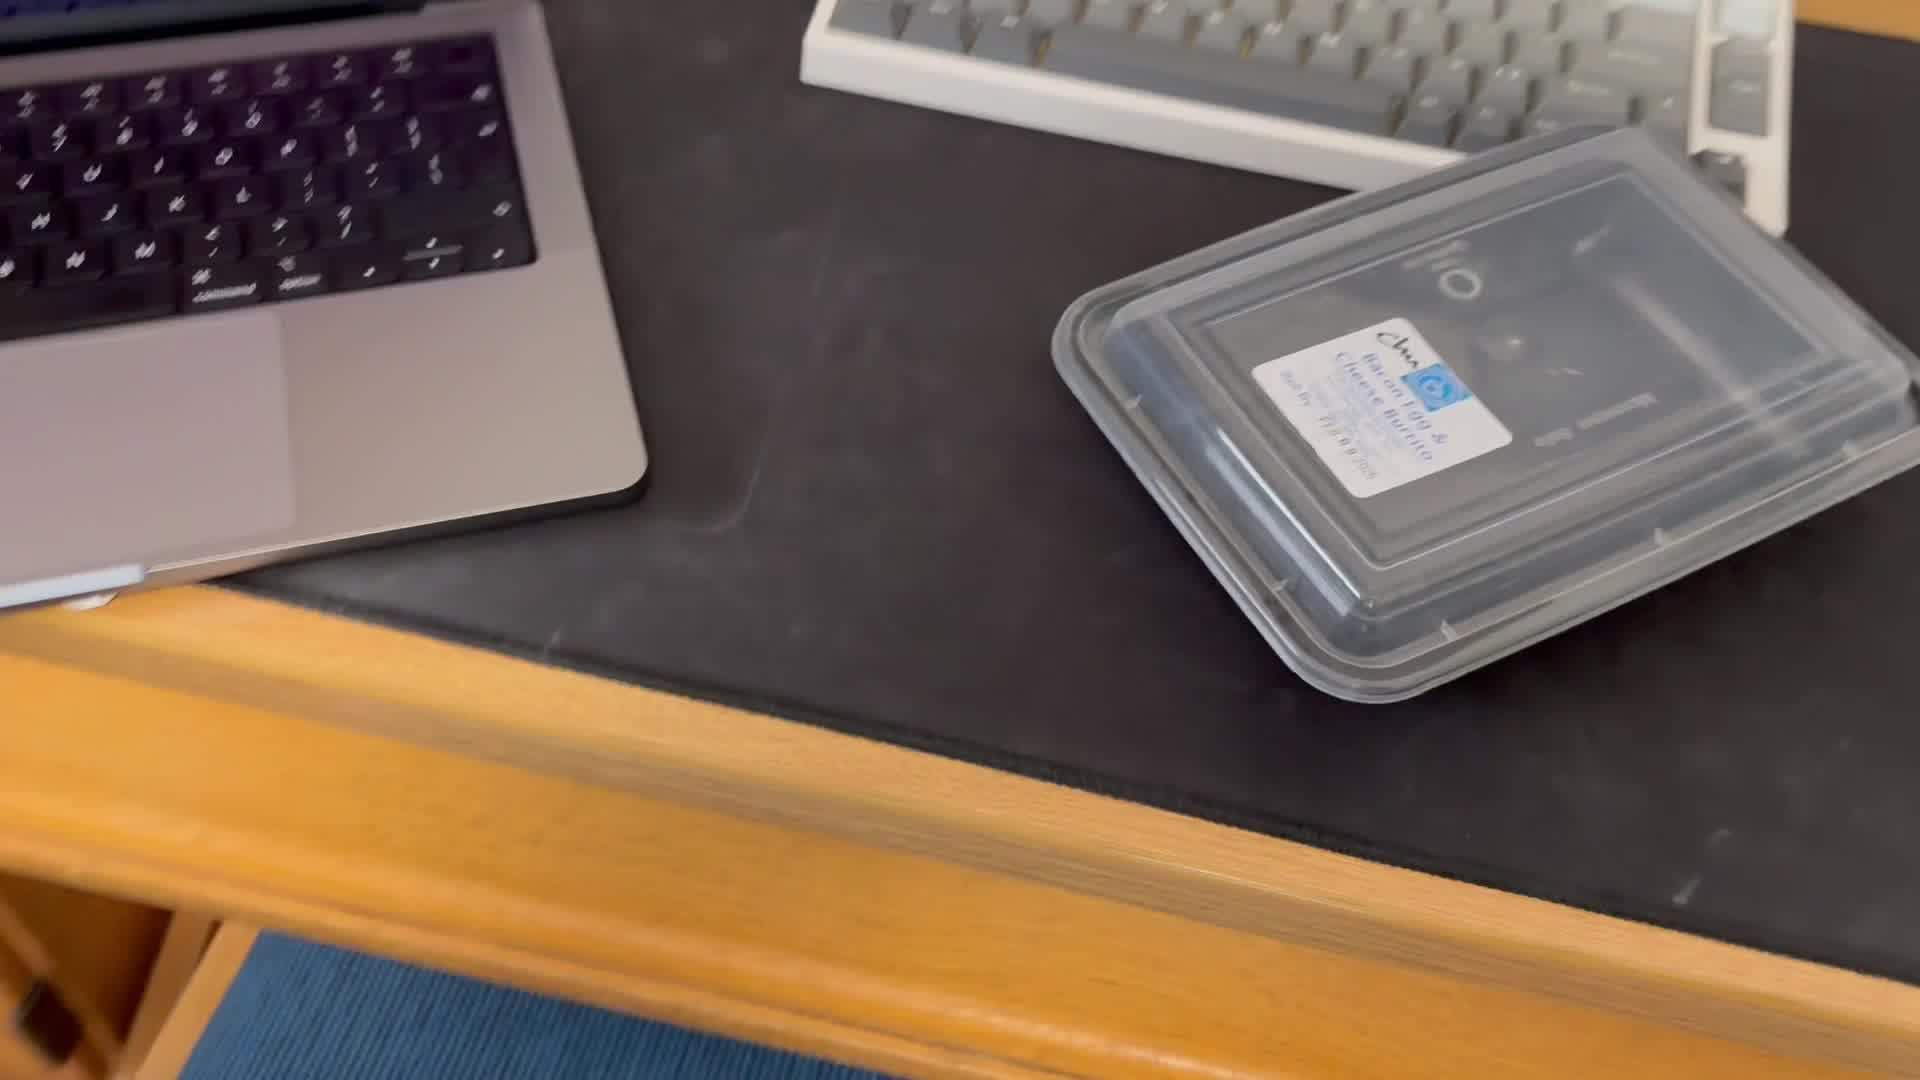lp_cup_lids: (1044, 113, 1920, 719)
